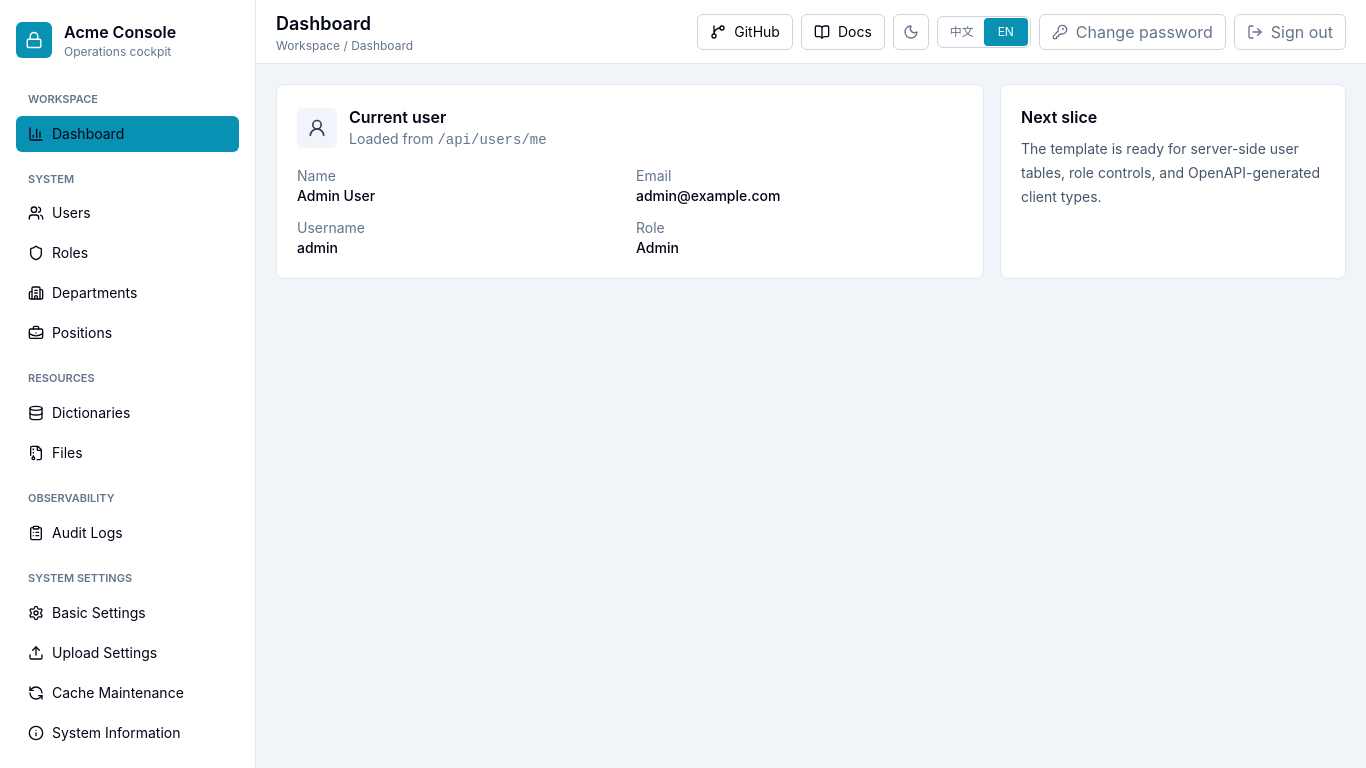
AdminShell i18n › changes password, clears local state, and navigates to login
This screenshot has width=1366, height=768.
Click the button "Change password" at point(1132, 32), box [1039,14,1226,50]
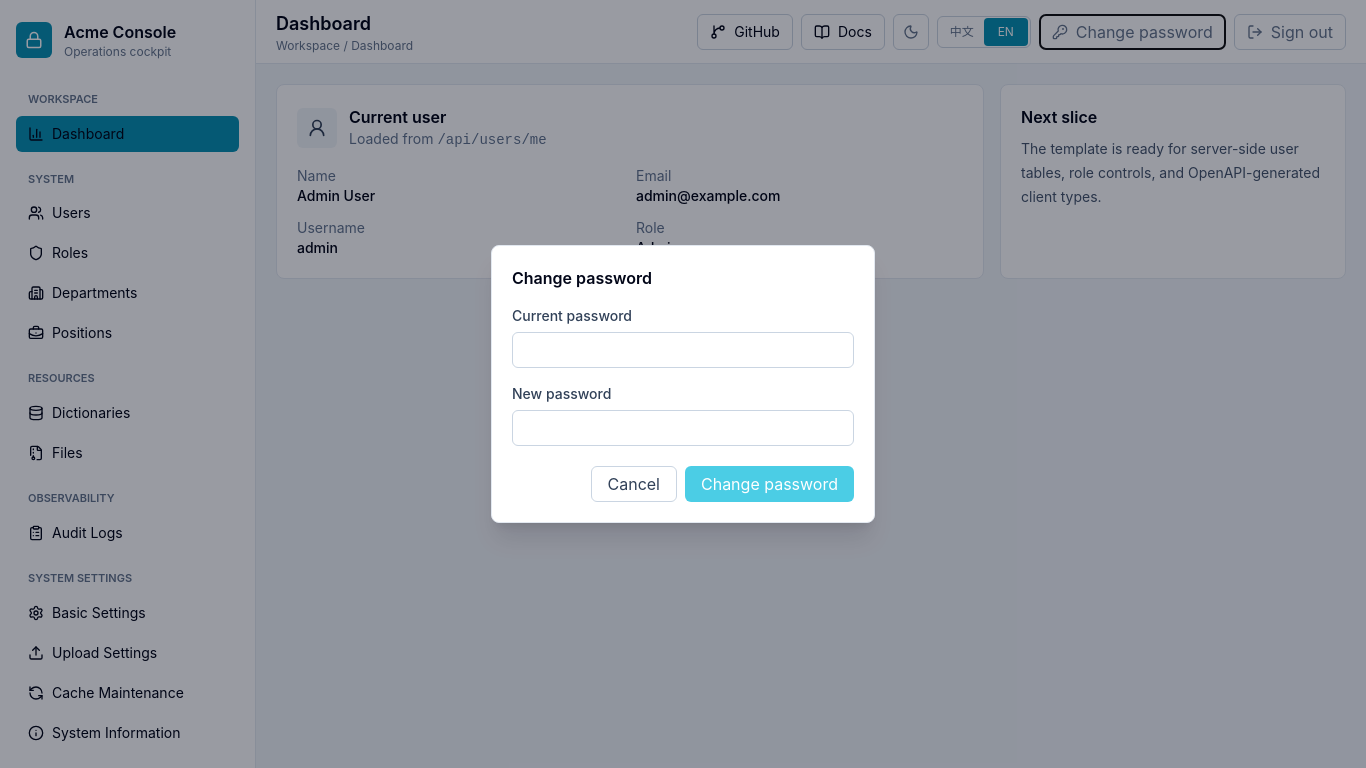
Type "OldPass123!" into the password field labelled "Current password" at point(683, 350), box [512,332,854,368]
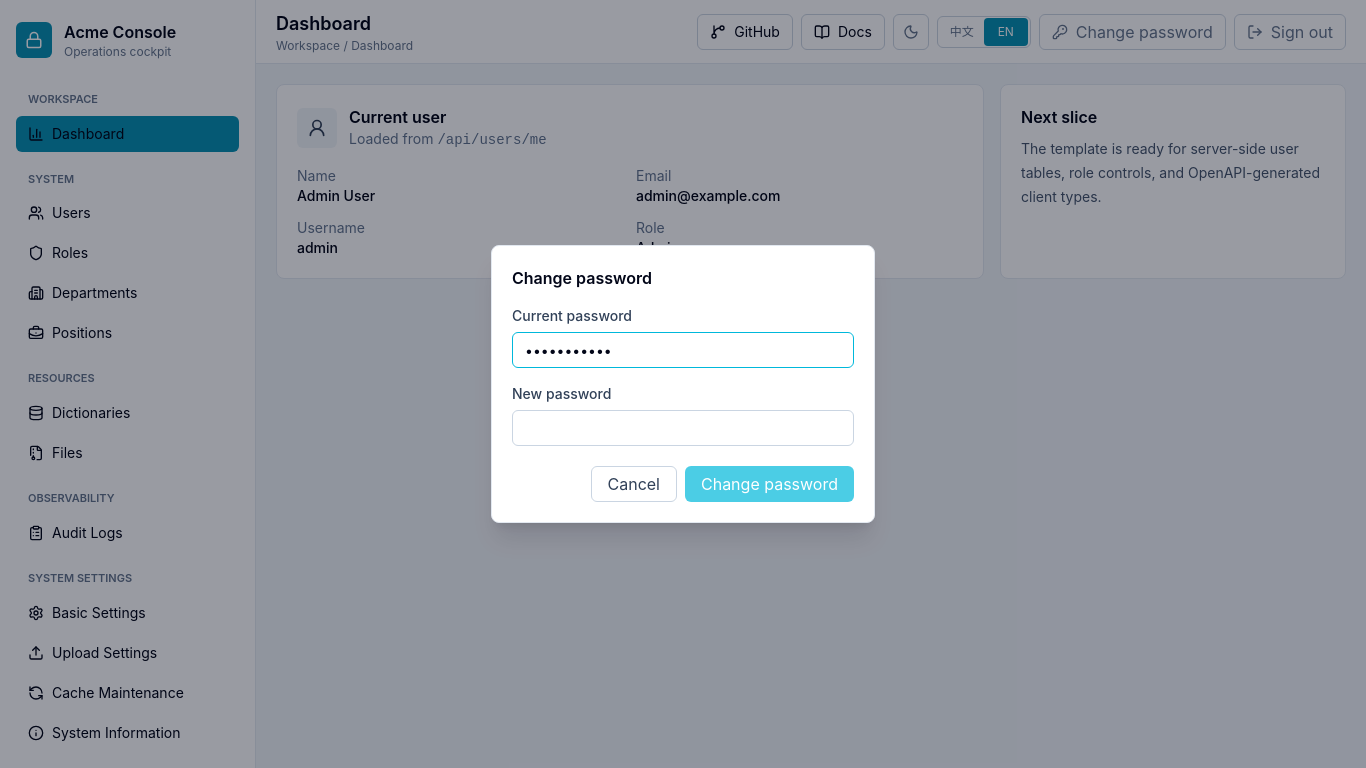
Type "NewPass123!" into the password field labelled "New password" at point(683, 428), box [512,410,854,446]
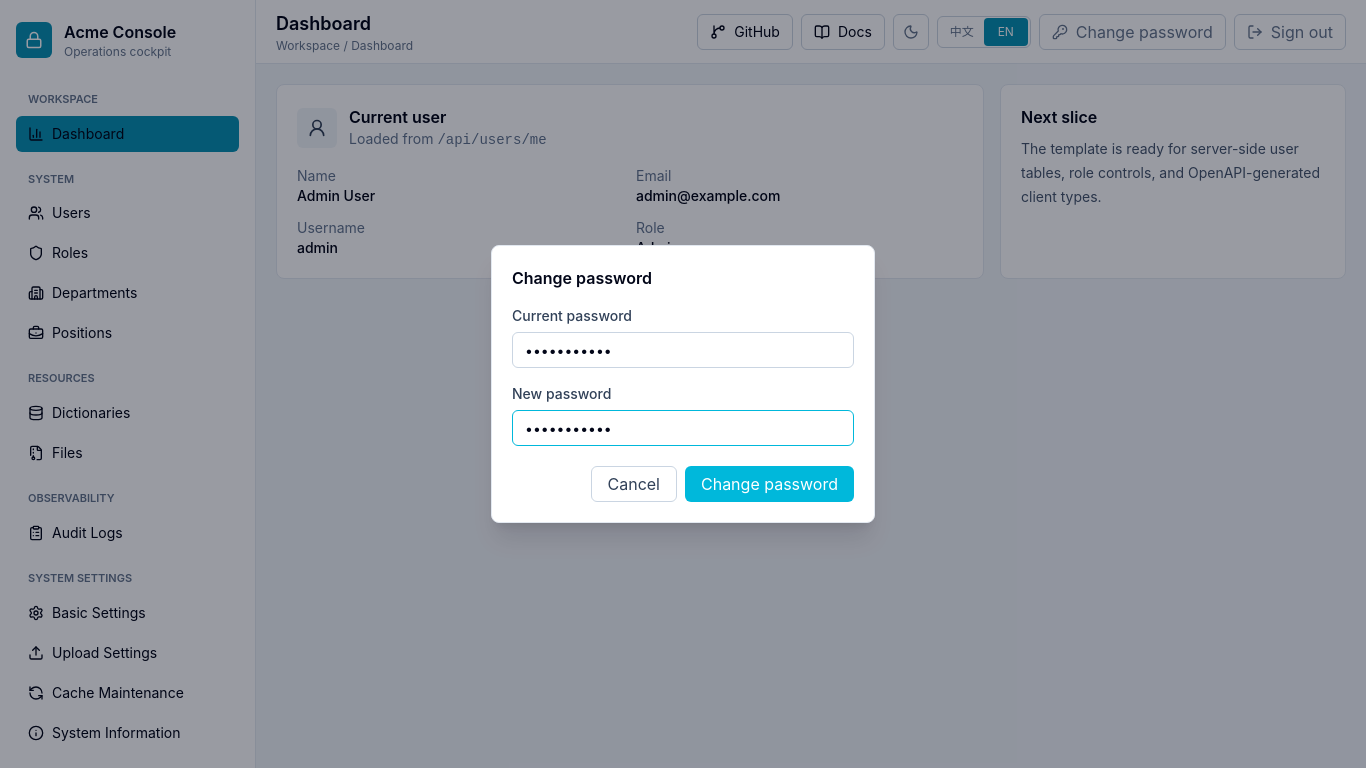
Click the button "Change password" at point(770, 484), box [685,466,854,502]
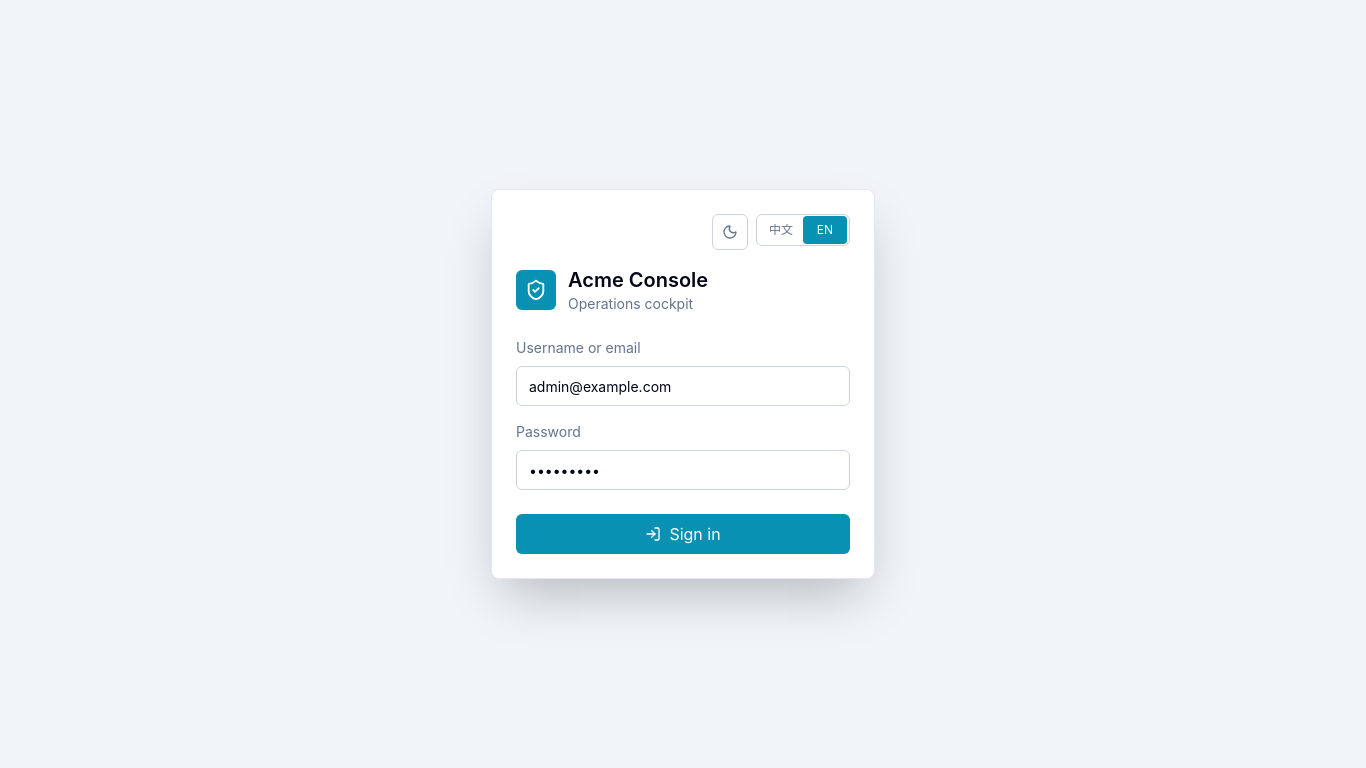
Now the button "Sign in" is shown, box [516,514,850,554]
